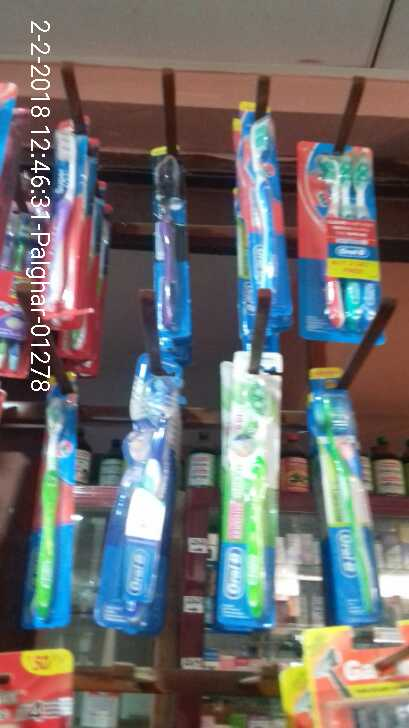oralb: (300, 373, 374, 624), (302, 148, 389, 334), (114, 365, 173, 613), (24, 379, 74, 623), (220, 378, 266, 622), (139, 145, 196, 341), (238, 131, 275, 321)
